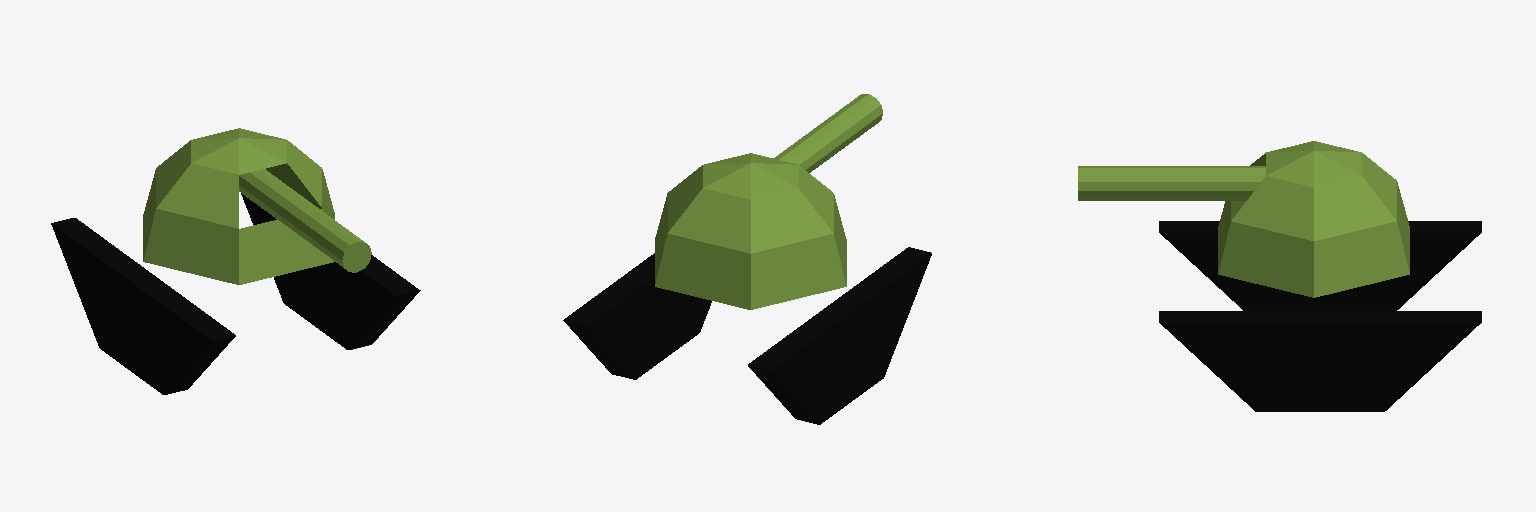
Rendered from original.obj.
3 renders of one model, left to right at view 1: azimuth 30°, elevation 25°; view 2: azimuth 150°, elevation 25°; view 3: azimuth 270°, elevation 25°, orthographic.
Parts seen in each view (by area): view 1: turret.001_Sphere.000, track_Cube.002; view 2: turret.001_Sphere.000, track_Cube.002; view 3: track_Cube.002, turret.001_Sphere.000.
Boxes of the visible parts, box(x1,y1,x2,y2) form: turret.001_Sphere.000: box(143, 128, 371, 284); track_Cube.002: box(51, 193, 420, 394); turret.001_Sphere.000: box(655, 94, 882, 309); track_Cube.002: box(563, 247, 931, 424); track_Cube.002: box(1159, 221, 1481, 411); turret.001_Sphere.000: box(1078, 141, 1409, 297).
Size of the model in its own units: 0.9841 by 0.9513 by 1.65.